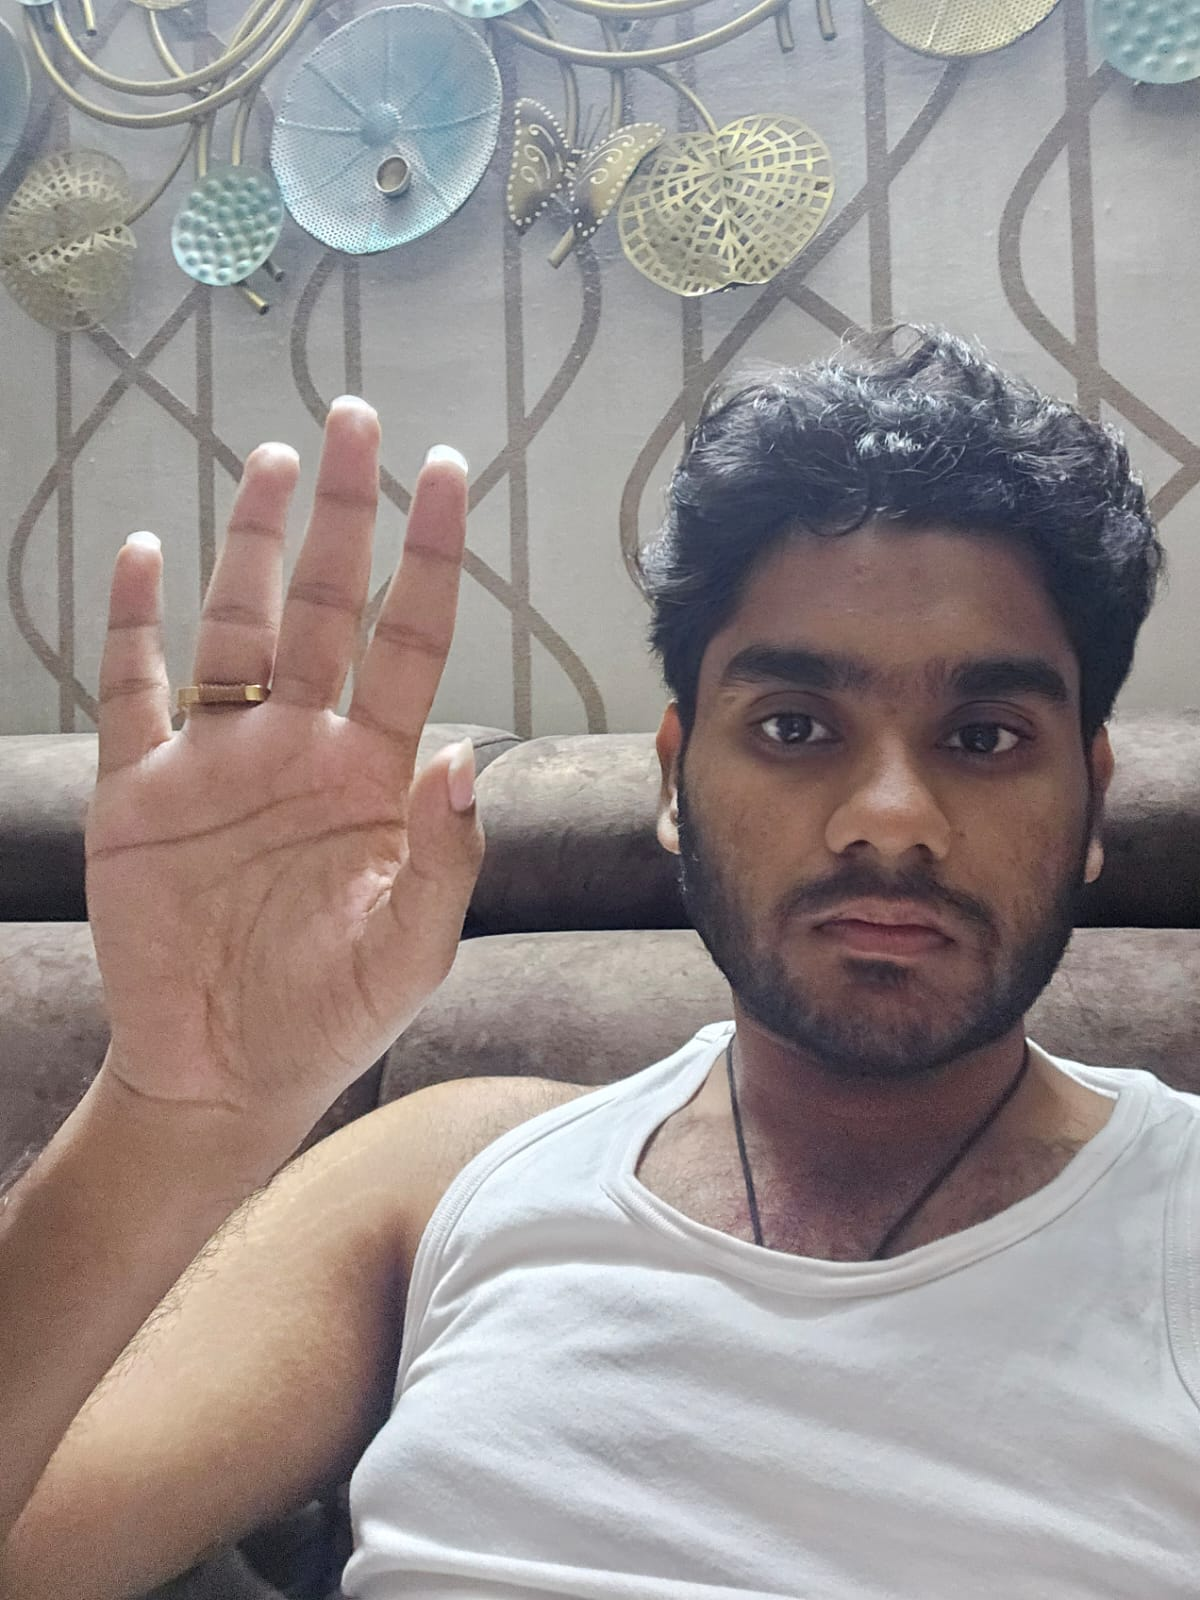hello: (84, 394, 489, 1125)
